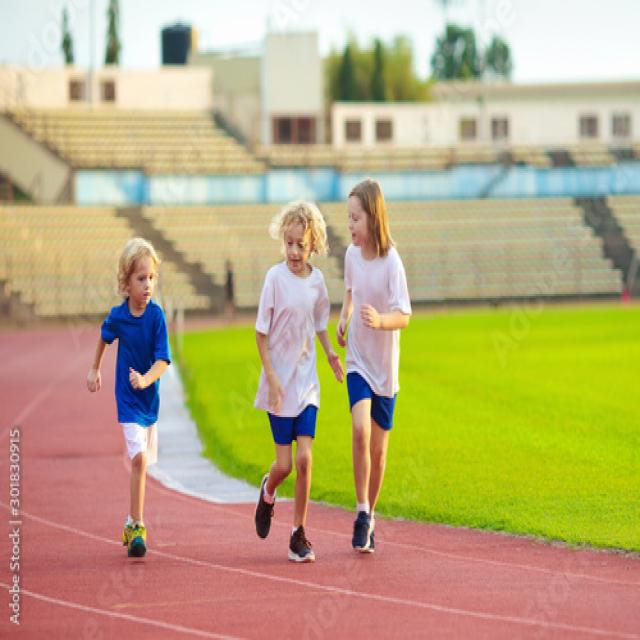Person: (253, 198, 344, 564), (337, 178, 413, 554), (87, 239, 171, 558)
